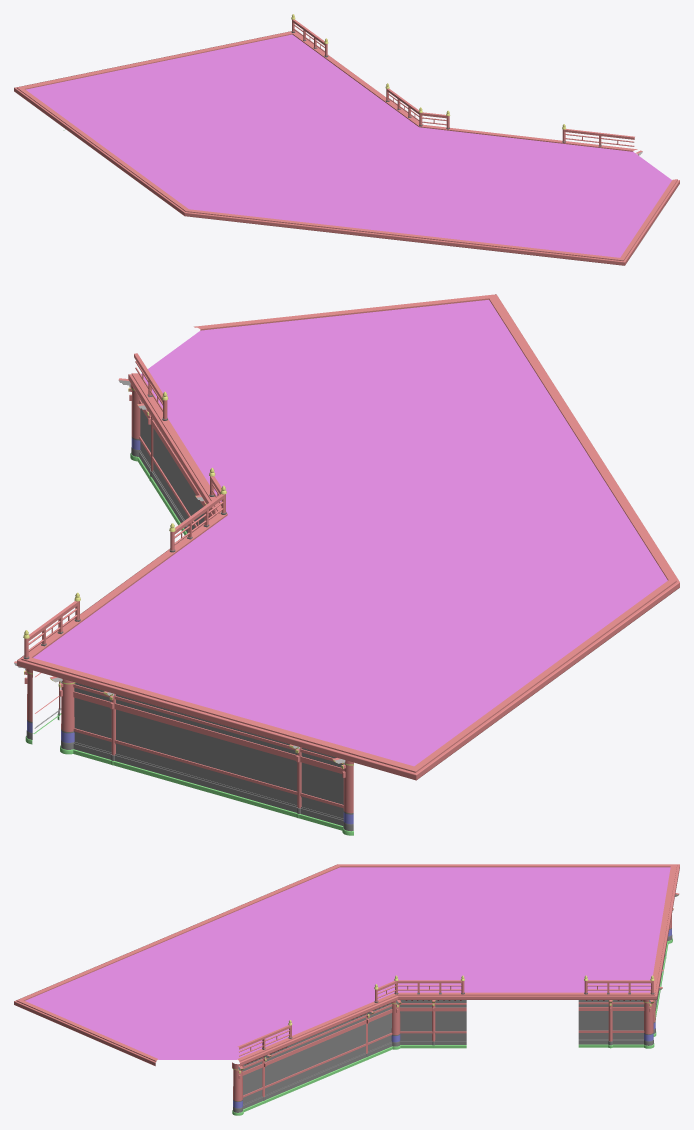
The model's file is SM_ENV_LKNVLD_WallSet_PlatformB.gltf.
The picture shows the model from 3 angles, top to bottom: view 1: azimuth 30°, elevation 25°; view 2: azimuth 150°, elevation 25°; view 3: azimuth 270°, elevation 25°; orthographic projection. The views are drawn at different scales.
Visible parts, largest first — view 1: SM_ENV_LKNVLD_WallSet_PlatformB; view 2: SM_ENV_LKNVLD_WallSet_PlatformB; view 3: SM_ENV_LKNVLD_WallSet_PlatformB.
Boxes of the visible parts, x1,y1,x2,y2 form: SM_ENV_LKNVLD_WallSet_PlatformB: (14, 14, 679, 265); SM_ENV_LKNVLD_WallSet_PlatformB: (14, 294, 679, 835); SM_ENV_LKNVLD_WallSet_PlatformB: (14, 864, 679, 1115).
Bounding box in the file's own units: 48.44 × 8.12 × 67.74.
